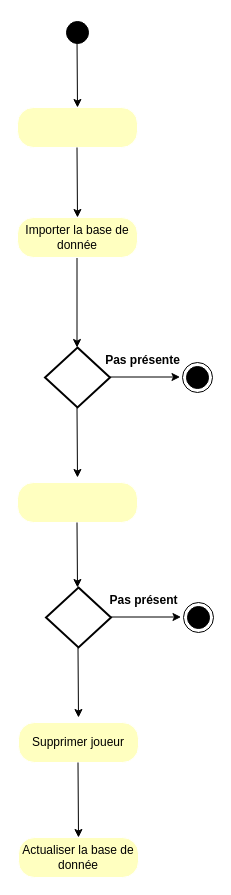
This 231x895 diagram has some shape labels left out. The shapes that lost their labels are listed below. From the top down, each one's centre as x and y in pixels, then its label:
At (x=77, y=127): "Sélectionner équipe".
At (x=77, y=502): "Sélectionner joueur".
